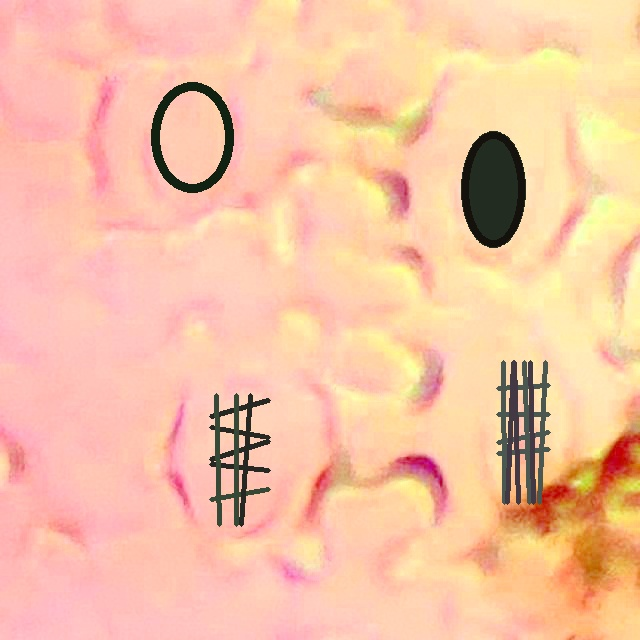close: (150, 81, 235, 193), (209, 393, 270, 526), (497, 361, 550, 503), (462, 131, 525, 247)
